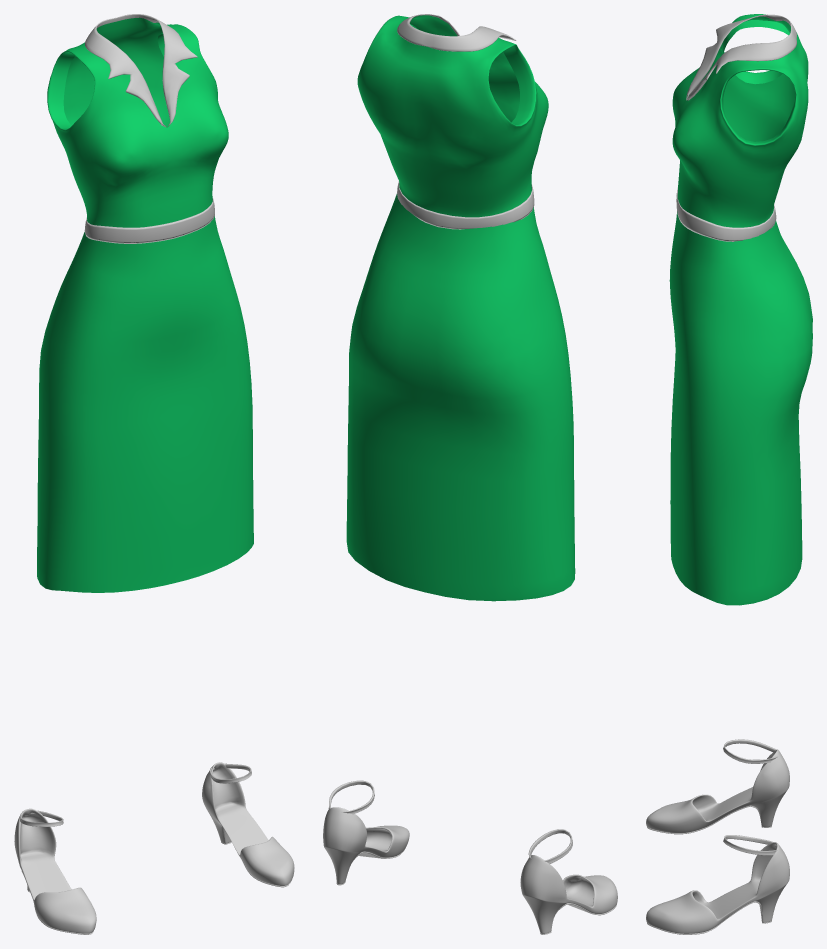
The model's file is nvquntao9.obj.
3 renders of one model, left to right at view 1: azimuth 30°, elevation 25°; view 2: azimuth 150°, elevation 25°; view 3: azimuth 270°, elevation 25°, orthographic. The views are drawn at different scales.
Parts seen in each view (by area): view 1: nvquntao2; view 2: nvquntao2; view 3: nvquntao2.
Part boxes in pixels (x1,y1,x2,y2): nvquntao2: [14, 14, 294, 934]; nvquntao2: [323, 14, 617, 934]; nvquntao2: [646, 14, 812, 934].
Bounding box in the file's own units: 1.68 × 5.51 × 0.9827.
